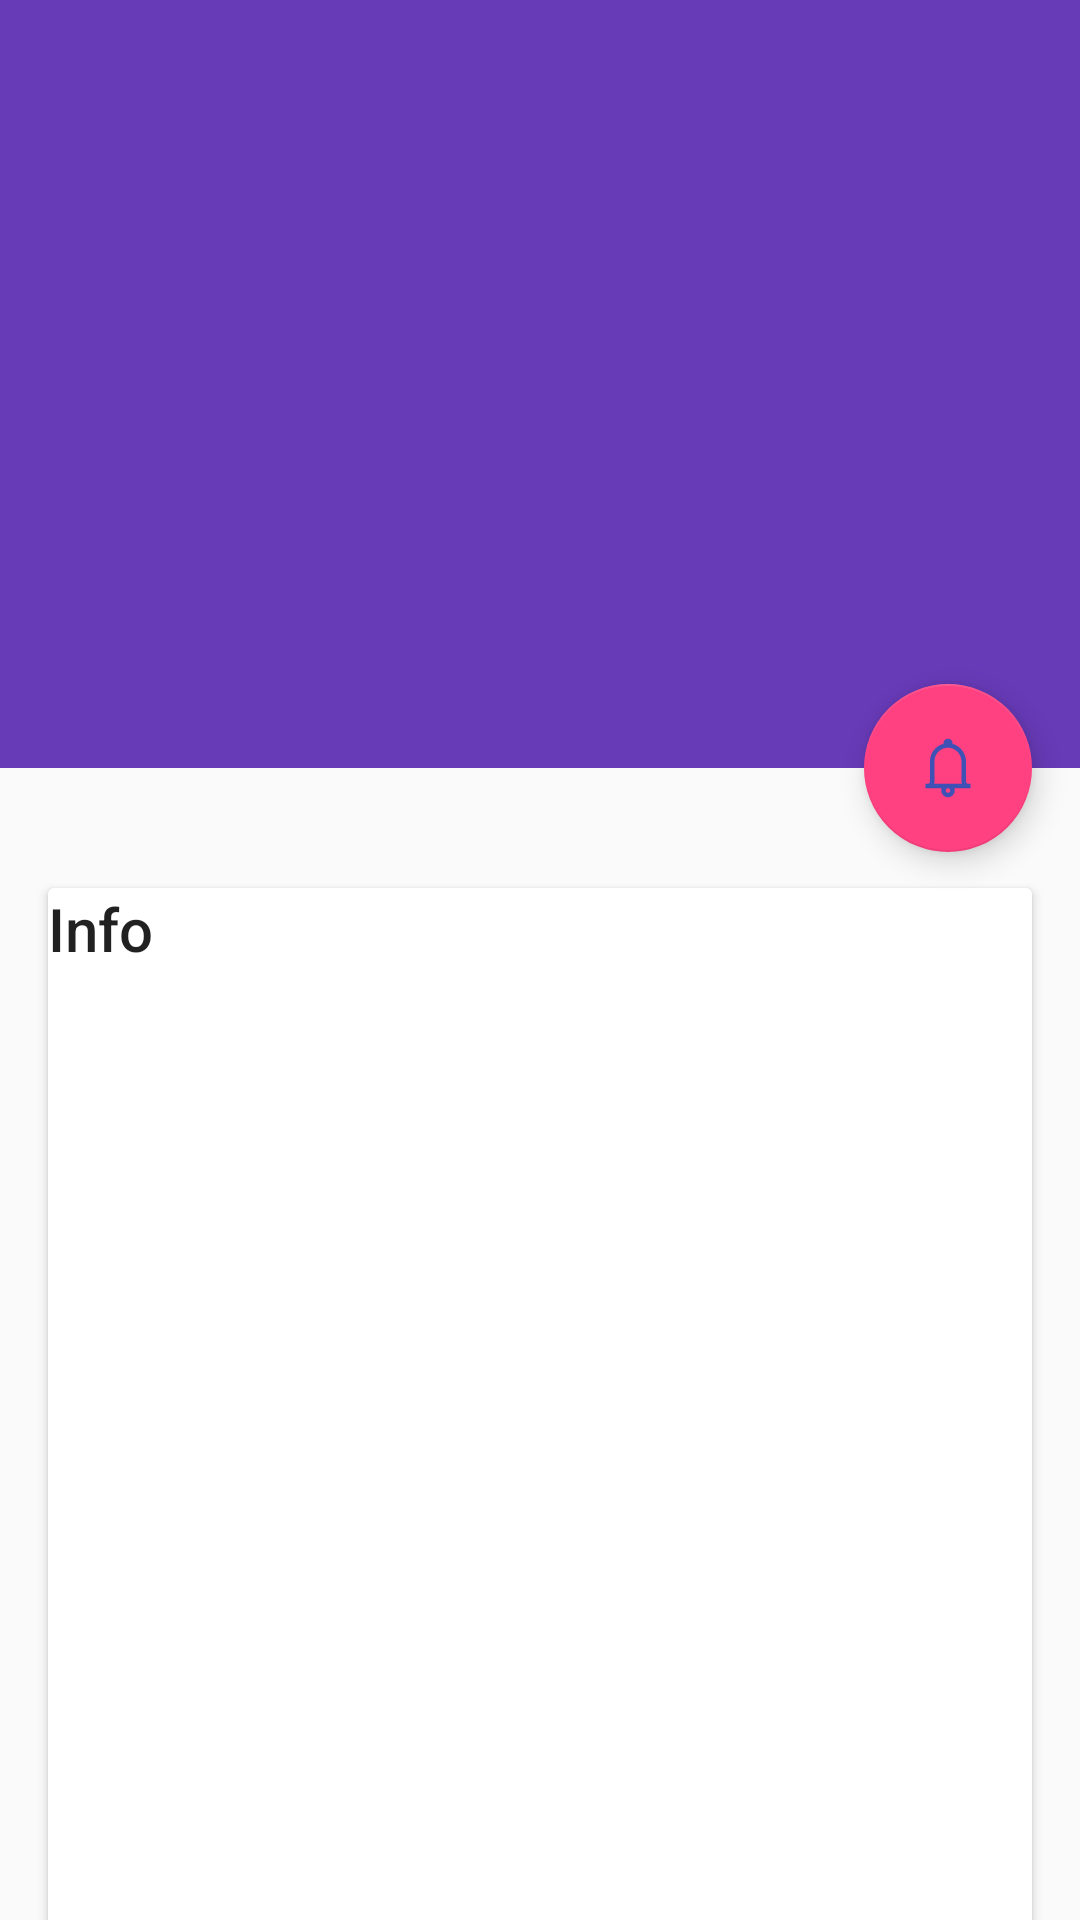

Point at icon controls on the screen. Image size 1080 × 1920, points as (x=x, y=y).
notifications on: (x=948, y=768)
